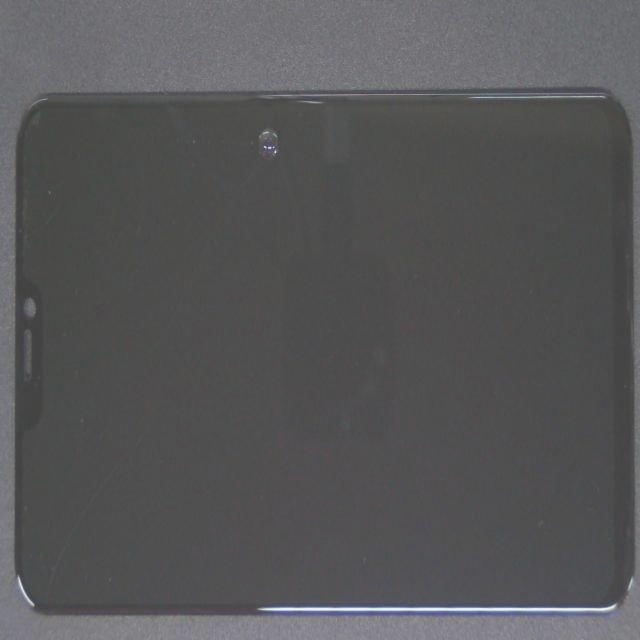oil: (120, 51, 382, 232)
